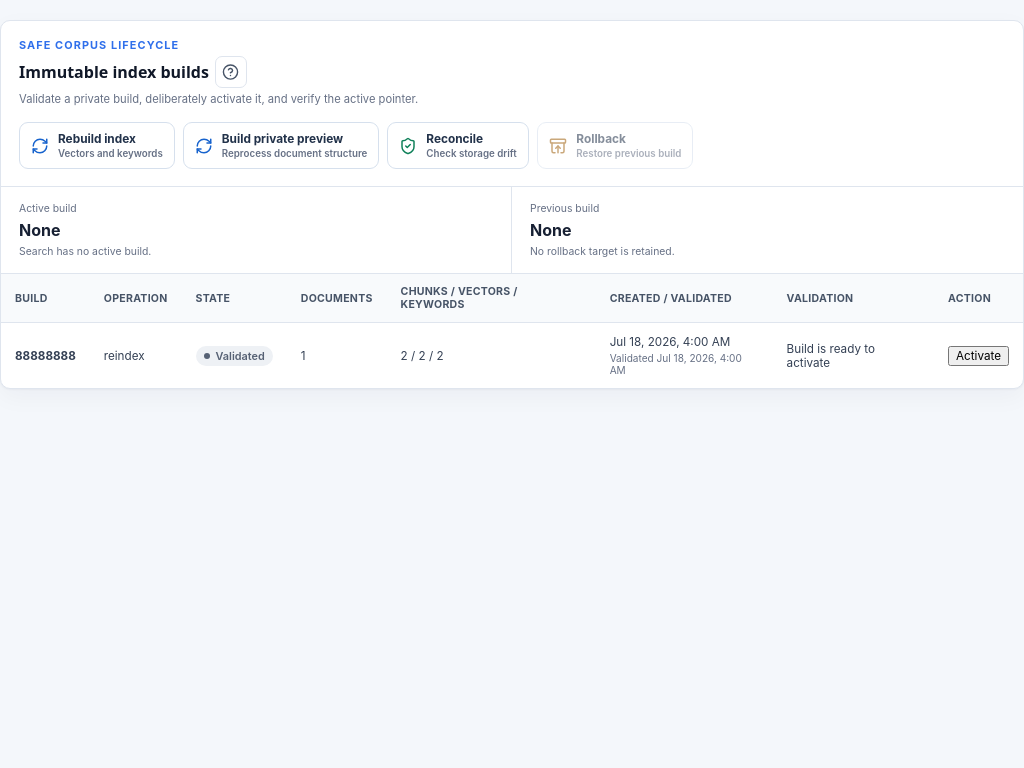
Test: opens a lifecycle guide that explains actions and states
The image size is (1024, 768).
Click the button named "Open lifecycle guide". click: (231, 72)
box: [215,56,247,88]
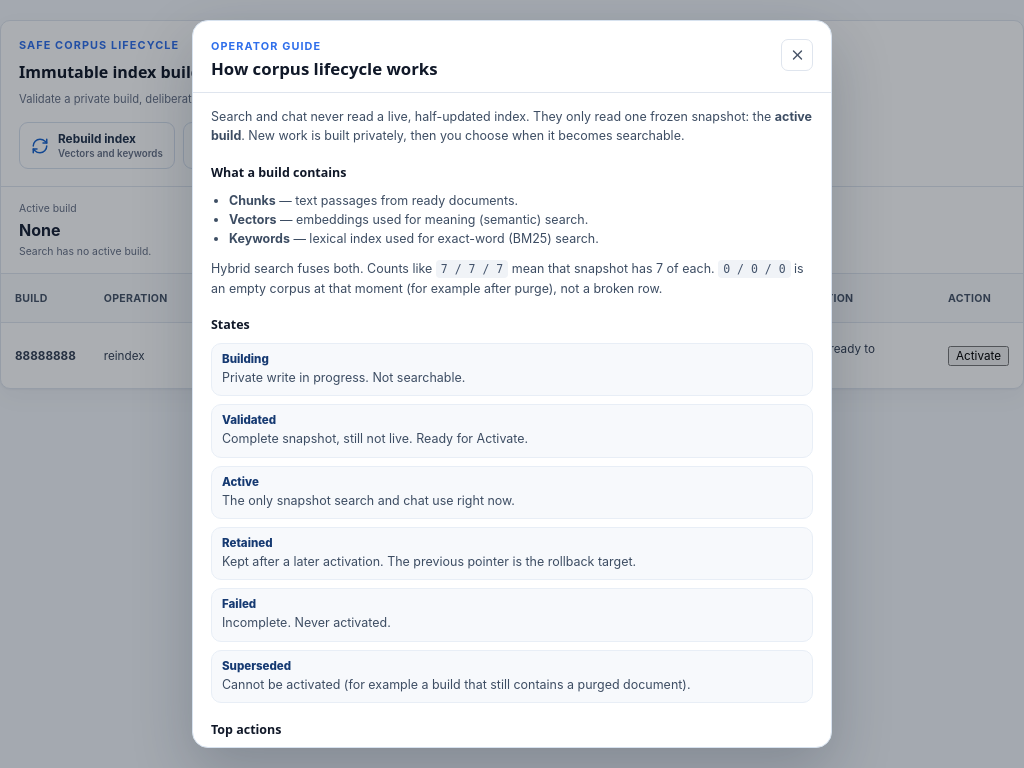
Click the button named "Close". click: (797, 55)
box: [781,39,813,71]
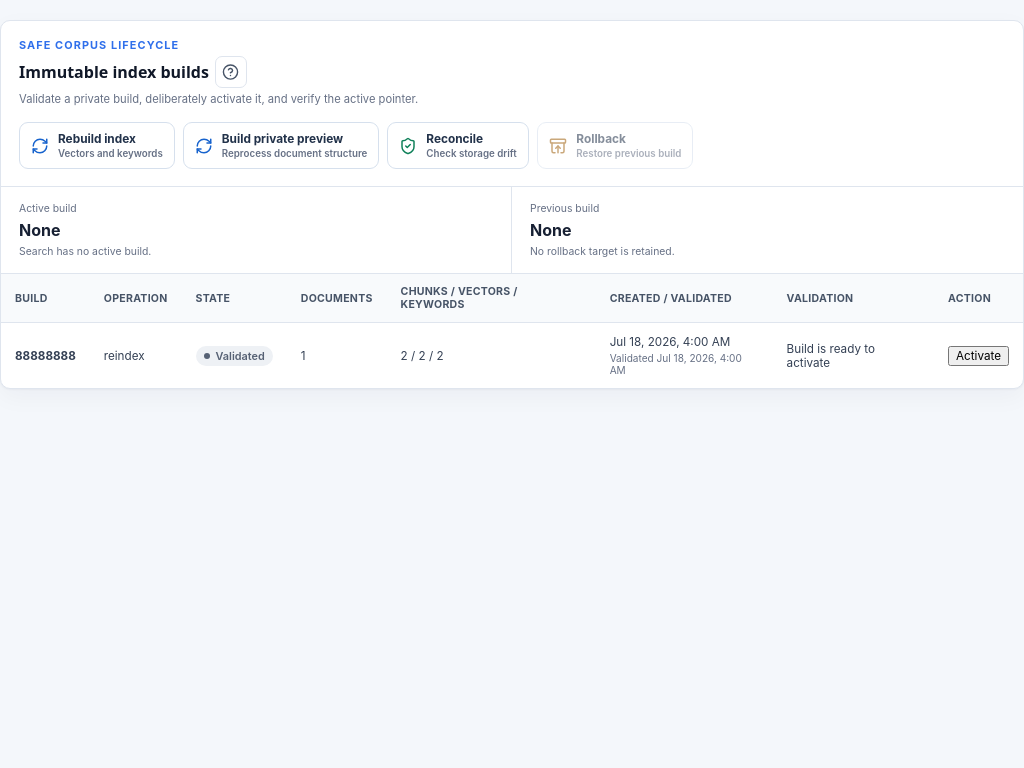
Expected: the heading "How corpus lifecycle works" is gone
